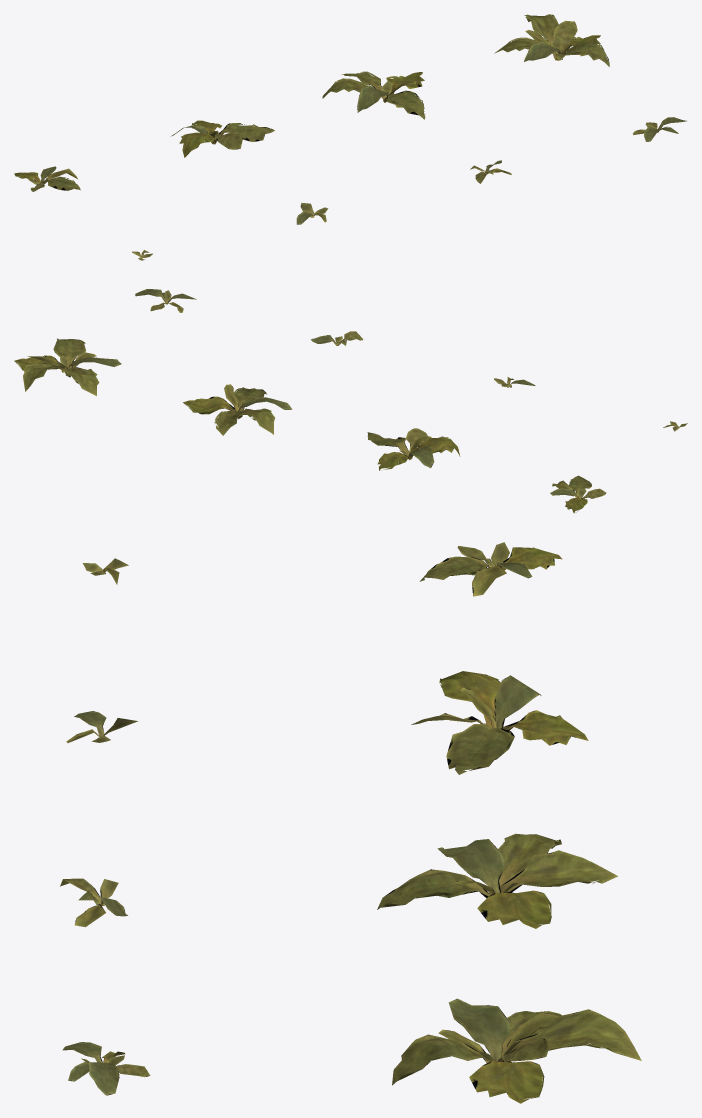
File: crystalline_iceplant.glb
The picture shows the model from 3 angles, top to bottom: view 1: azimuth 30°, elevation 25°; view 2: azimuth 150°, elevation 25°; view 3: azimuth 270°, elevation 25°; orthographic projection. The views are drawn at different scales.
Visible parts, largest first — view 1: crystalline_iceplant; view 2: crystalline_iceplant; view 3: crystalline_iceplant.
Boxes of the visible parts, x1,y1,x2,y2 form: crystalline_iceplant: (14, 14, 686, 260); crystalline_iceplant: (14, 289, 687, 513); crystalline_iceplant: (60, 542, 641, 1103).
Size of the model in its own units: 1.69 by 0.0804 by 0.7397.
1 material, 1 textured.
